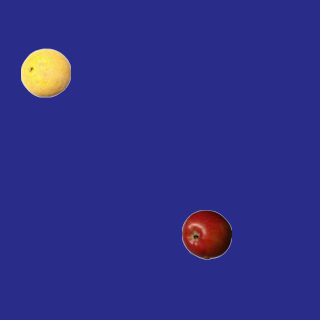Apple Braeburn: (181, 209, 231, 259)
Cantaloupe 1: (20, 47, 70, 97)
